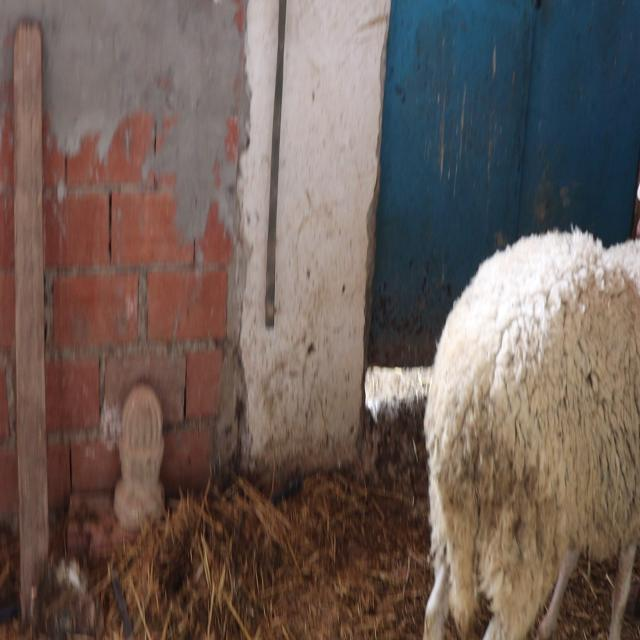Score_5: (423, 229, 640, 639)
